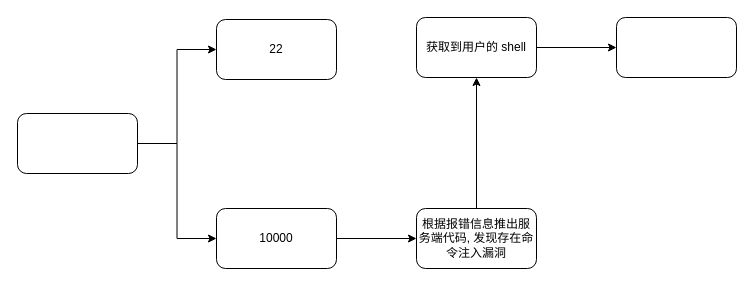
Image size: 754x286. Some labels were removed from this diagram. The shapes that lost their labels are listed below. From the top down, each one's centre as x and y in pixels, then its label:
pixel 676 47: 发现存在定时任务, 且脚本置于用于家目录下, 利用重命名操作完成提权
pixel 77 143: 端口扫描
